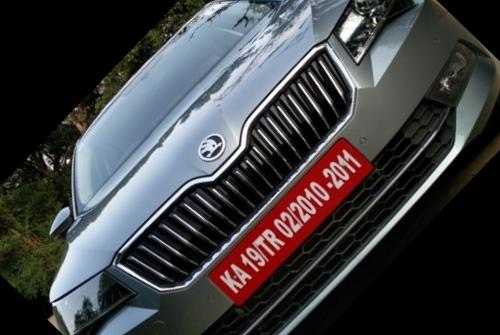plate: (191, 116, 397, 326)
